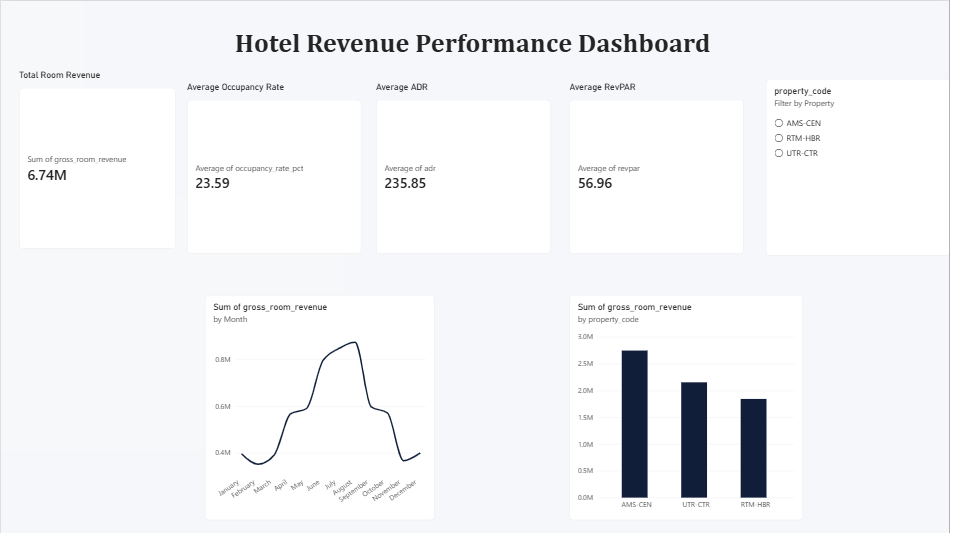

The page's visual inventory and layout, read from the dashboard file:
{"tool":"powerbi","page":{"name":"Page 1","canvas":[1920,1080],"ordinal":0},"visuals":[{"type":"cardVisual","title":"Total Room Revenue","fields":{"Data":["Sum(analytics vw_daily_property_performance.gross_room_revenue)"]},"box":[36.5,139.7,317.3,362.7],"z":0},{"type":"cardVisual","title":"Average Occupancy Rate","fields":{"Data":["Avg(analytics vw_daily_property_performance.occupancy_rate_pct)"]},"box":[376.7,164.1,353.1,348.3],"z":1000},{"type":"lineChart","fields":{"Category":["analytics vw_daily_property_performance.date_day.Variation.Date Hierarchy.Year","analytics vw_daily_property_performance.date_day.Variation.Date Hierarchy.Quarter","analytics vw_daily_property_performance.date_day.Variation.Date Hierarchy.Month","analytics vw_daily_property_performance.date_day.Variation.Date Hierarchy.Day"],"Y":["Sum(analytics vw_daily_property_performance.gross_room_revenue)"]},"box":[352.4,595.4,465.3,455.7],"z":2000},{"type":"clusteredColumnChart","fields":{"Category":["analytics vw_daily_property_performance.property_code"],"Y":["Sum(analytics vw_daily_property_performance.gross_room_revenue)"]},"box":[960,595.4,472.4,455.7],"z":3000},{"type":"listSlicer","fields":{"Values":["analytics vw_daily_property_performance.property_code"]},"box":[1549.4,158,372.2,357.9],"z":4000},{"type":"textbox","box":[474.8,52.5,1042.6,88.3],"z":5000},{"type":"cardVisual","title":"Average ADR","fields":{"Data":["Avg(analytics vw_daily_property_performance.adr)"]},"box":[759.5,164.1,353.1,348.3],"z":5001},{"type":"cardVisual","title":"Average RevPAR","fields":{"Data":["Avg(analytics vw_daily_property_performance.revpar)"]},"box":[1151.4,164.1,353.1,348.3],"z":5002}]}

Visuals, with their boxes in screenshot pixels (x1, y1, x2, y2), scaled from the page's 1920x1080 canvas onto the 959x533 screenshot:
"Total Room Revenue" cardVisual: Rect(18, 69, 177, 248)
"Average Occupancy Rate" cardVisual: Rect(188, 81, 365, 253)
lineChart - analytics vw_daily_property_performance.date_day.Variation.Date Hierarchy.Year x analytics vw_daily_property_performance.date_day.Variation.Date Hierarchy.Quarter: Rect(176, 294, 408, 519)
clusteredColumnChart - analytics vw_daily_property_performance.property_code x Sum(analytics vw_daily_property_performance.gross_room_revenue): Rect(480, 294, 715, 519)
listSlicer - analytics vw_daily_property_performance.property_code: Rect(774, 78, 958, 255)
textbox: Rect(237, 26, 758, 69)
"Average ADR" cardVisual: Rect(379, 81, 556, 253)
"Average RevPAR" cardVisual: Rect(575, 81, 751, 253)
